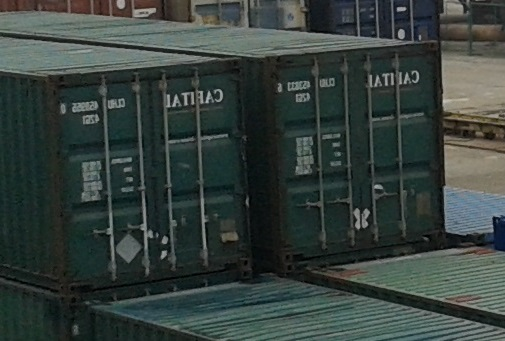container_door: (45, 61, 252, 285), (271, 39, 443, 262)
